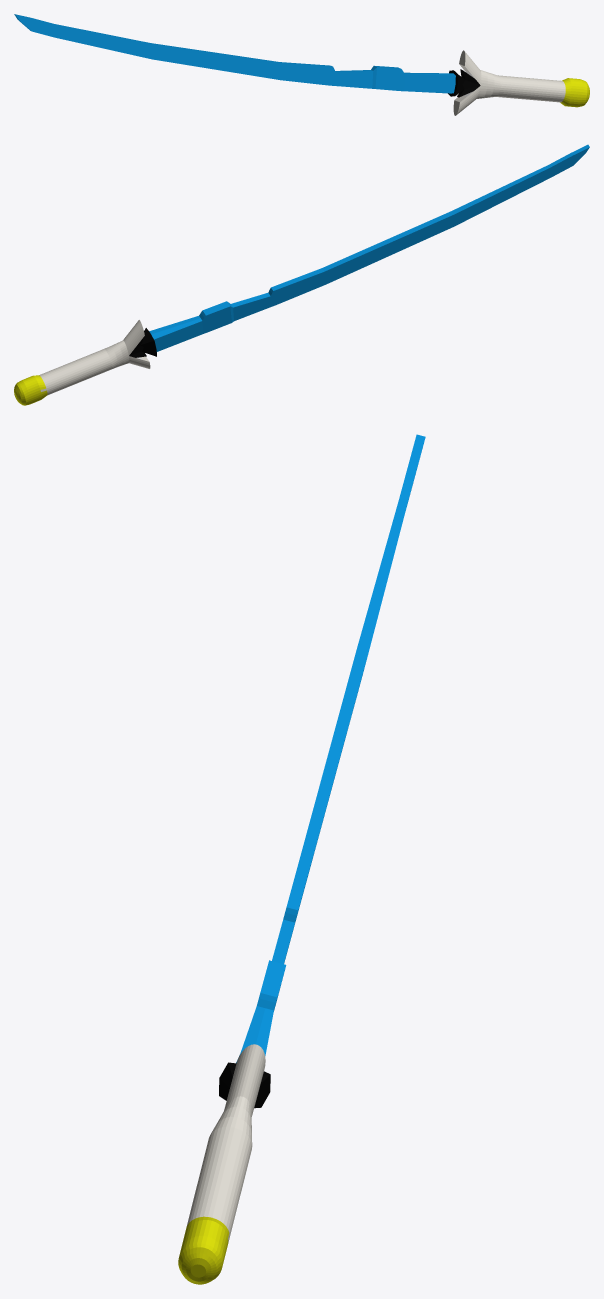
File: Sword_Hilt.fbx
3 views of the same model, one above another, from view 1: azimuth 30°, elevation 25°; view 2: azimuth 210°, elevation 25°; view 3: azimuth 270°, elevation 25° (orthographic). The views are drawn at different scales.
Parts seen in each view (by area): view 1: Sword Hilt; view 2: Sword Hilt; view 3: Sword Hilt.
Boxes of the visible parts, x1,y1,x2,y2 form: Sword Hilt: (14,14,589,115); Sword Hilt: (14,144,589,405); Sword Hilt: (178,434,425,1284).
Bounding box in the file's own units: 131 × 42.52 × 27.14.
